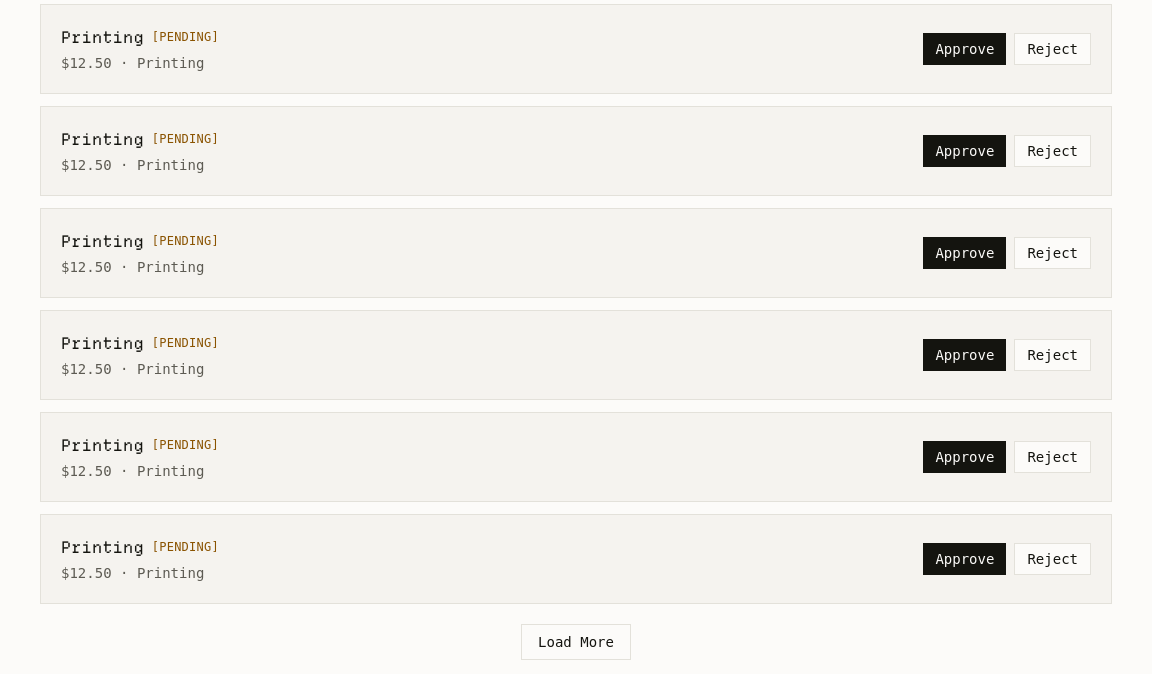
it: FinancePage › pages the ledger and says how much of it is on screen
(page scrolled)
Click the button "Load More": [576, 642] box [521,624,631,660]
(page scrolled)
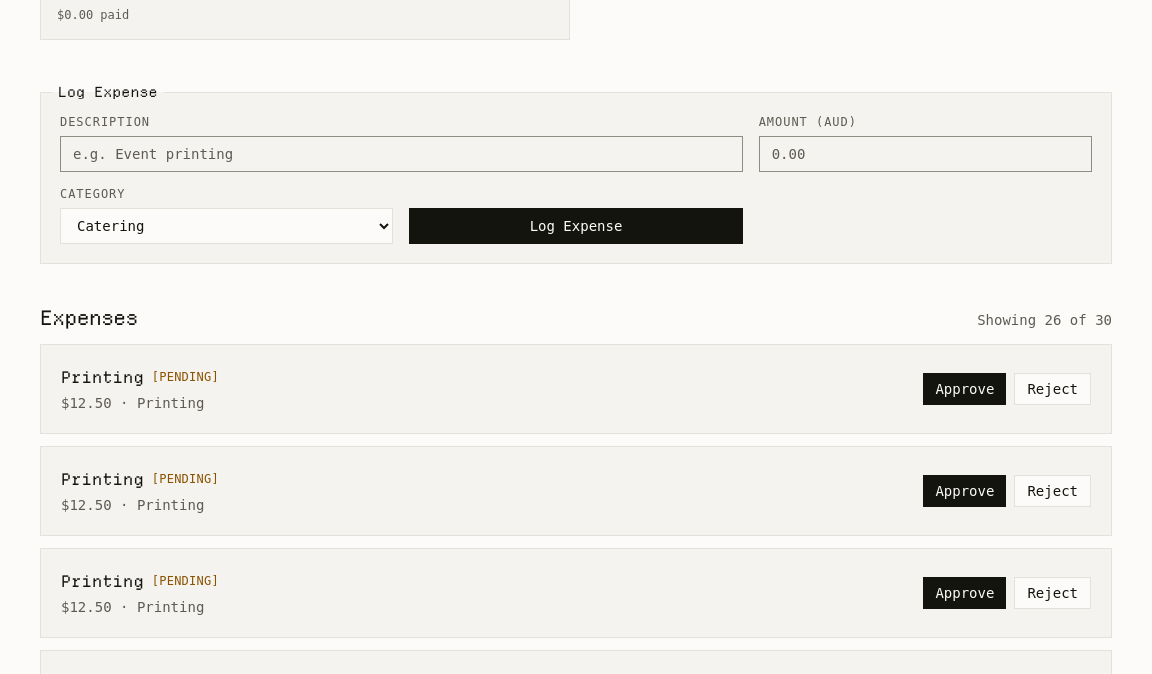
Now the text "Showing 26 of 30" is shown, box [977,310,1112,330]
